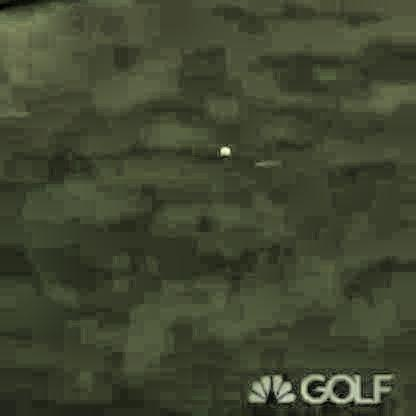golfball: (216, 146, 229, 156)
